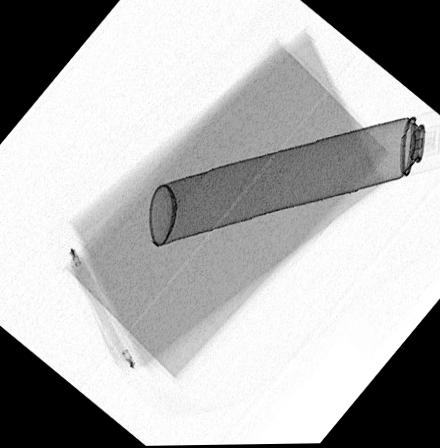Sprayer: (148, 110, 440, 247)
